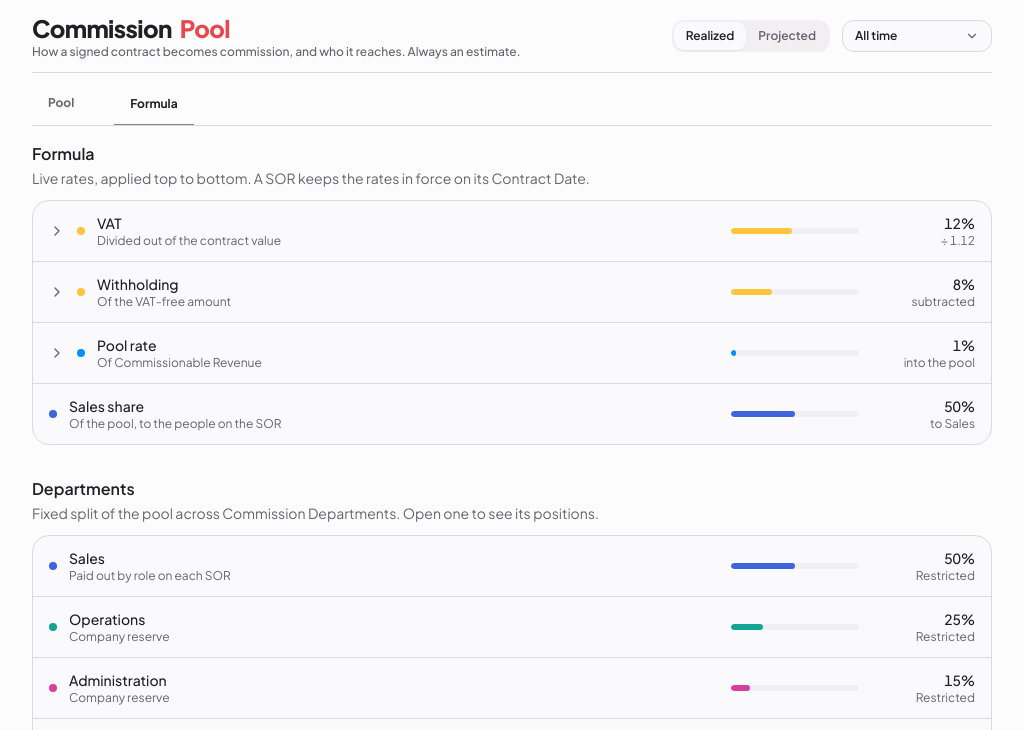
Test: CommissionDashboardView › Formula tab › Commission Rates › shows the live rate on the row and the dated history behind it, future rates as Scheduled
This screenshot has width=1024, height=730.
Expected: the text "1%" is shown, [953,336,975,354]
Click the button "Pool rate Of Commissionable Revenue 1% into the pool". click: (127, 345)
box: [33,323,991,383]
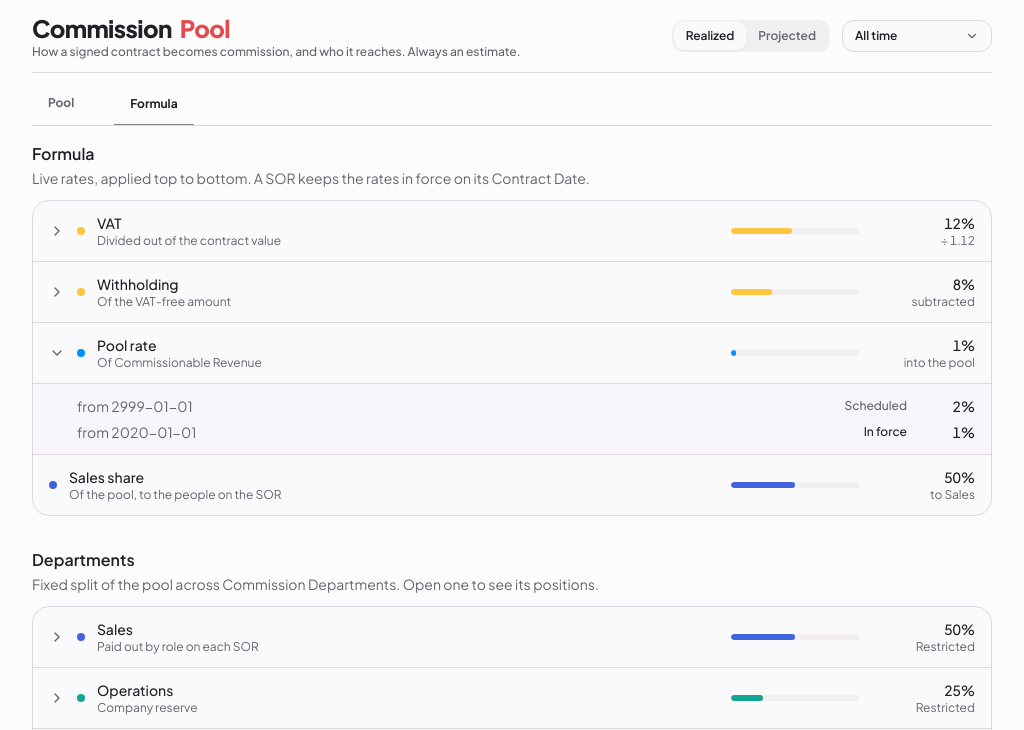
Now the text "Scheduled" is shown, box [844,398,907,414]
Now the text "In force" is shown, box [864,424,907,440]
Now the text "from 2999-01-01" is shown, box [77,396,193,416]
